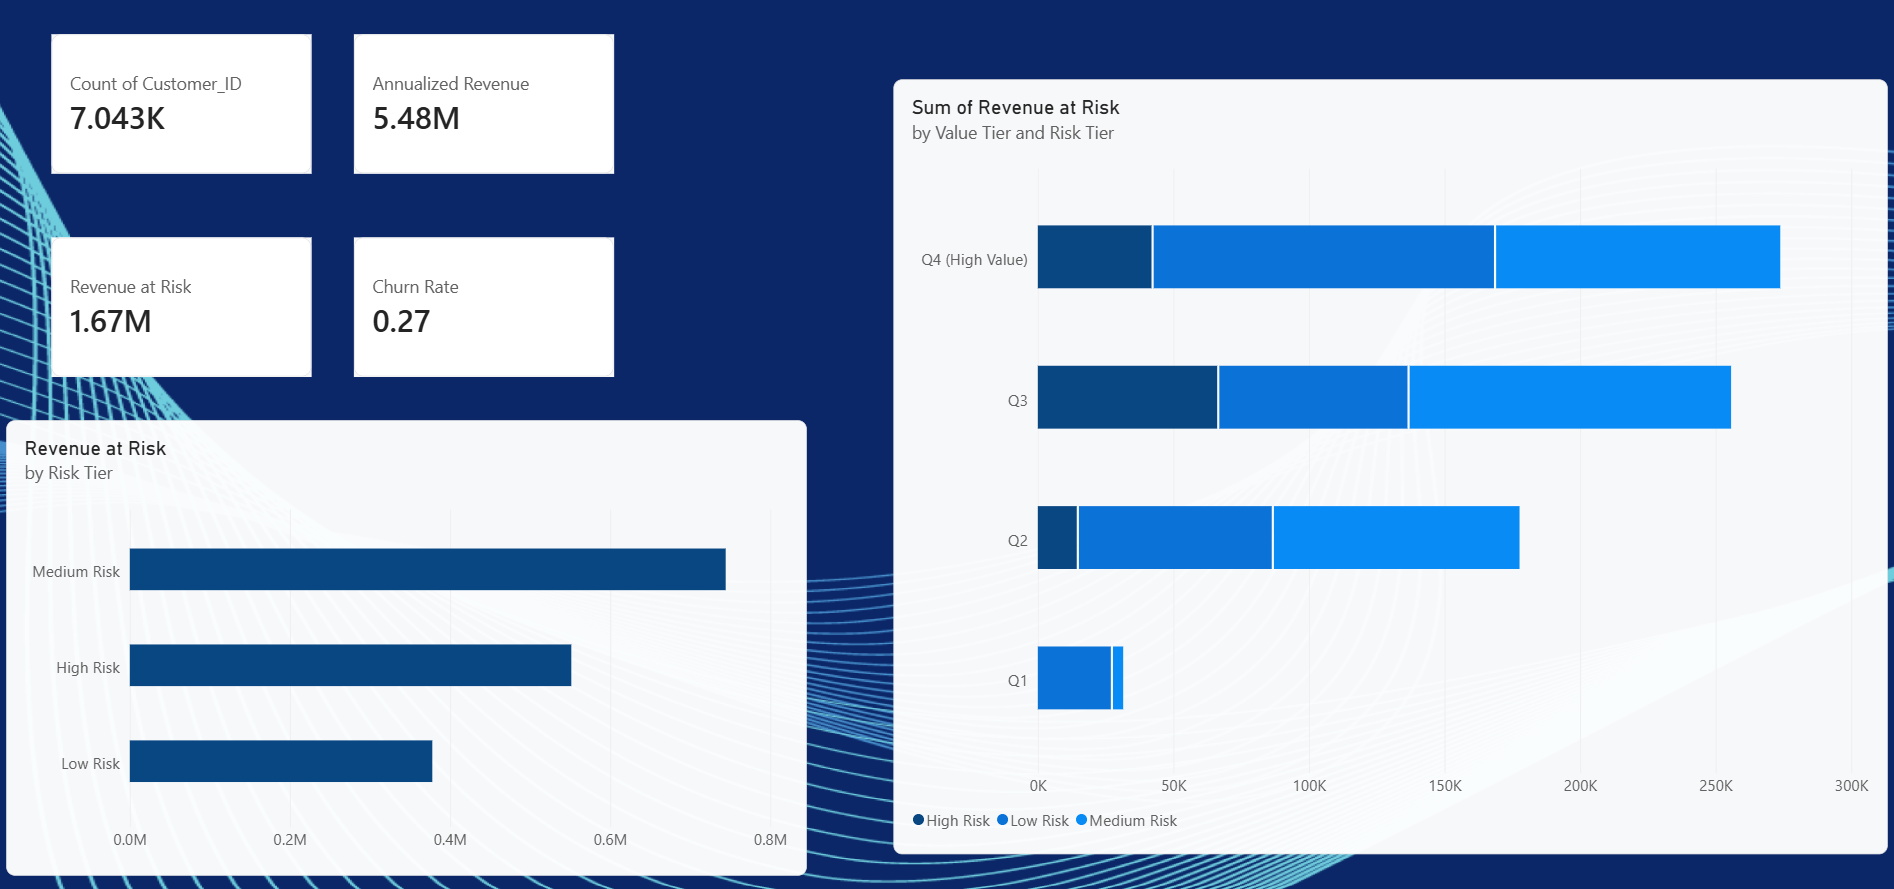

Layout of this report page (visuals, bound fields, positions):
{"tool":"powerbi","page":{"name":"Page 1","canvas":[1920,1080],"ordinal":0},"visuals":[{"type":"cardVisual","fields":{"Data":["CountNonNull(customers_with_risk_score.Customer_ID)"]},"box":[155,127.5,237.5,127.5],"z":0},{"type":"cardVisual","fields":{"Data":["customers_with_risk_score.Annualized Revenue"]},"box":[430,127.5,237.5,127.5],"z":1000},{"type":"cardVisual","fields":{"Data":["customers_with_risk_score.Expected_revenue_at_risk"]},"box":[155,312.5,237.5,127.5],"z":2000},{"type":"barChart","fields":{"Category":["customers_with_risk_score.risk_tier"],"Y":["customers_with_risk_score.Expected_revenue_at_risk"]},"box":[112.5,480,730,415],"z":3000},{"type":"barChart","fields":{"Category":["risk_value_segment_summary.value_tier"],"Series":["risk_value_segment_summary.risk_tier"],"Y":["Sum(risk_value_segment_summary.expected_revenue_at_risk)"]},"box":[922.2,168.1,906.7,706.7],"z":4000},{"type":"cardVisual","fields":{"Data":["Churn_clean.Churn_Rate_%"]},"box":[430,312.5,237.5,127.5],"z":5000}]}

Visuals, with their boxes on the page's 1920x1080 design canvas (x1, y1, x2, y2). These are canvas units, not pixel positions in the 1894x889 screenshot, which may show the page scaled, cropped or inside an application window:
cardVisual - CountNonNull(customers_with_risk_score.Customer_ID): (left=155, top=128, right=392, bottom=255)
cardVisual - customers_with_risk_score.Annualized Revenue: (left=430, top=128, right=668, bottom=255)
cardVisual - customers_with_risk_score.Expected_revenue_at_risk: (left=155, top=312, right=392, bottom=440)
barChart - customers_with_risk_score.risk_tier x customers_with_risk_score.Expected_revenue_at_risk: (left=112, top=480, right=842, bottom=895)
barChart - risk_value_segment_summary.value_tier x risk_value_segment_summary.risk_tier: (left=922, top=168, right=1829, bottom=875)
cardVisual - Churn_clean.Churn_Rate_%: (left=430, top=312, right=668, bottom=440)
